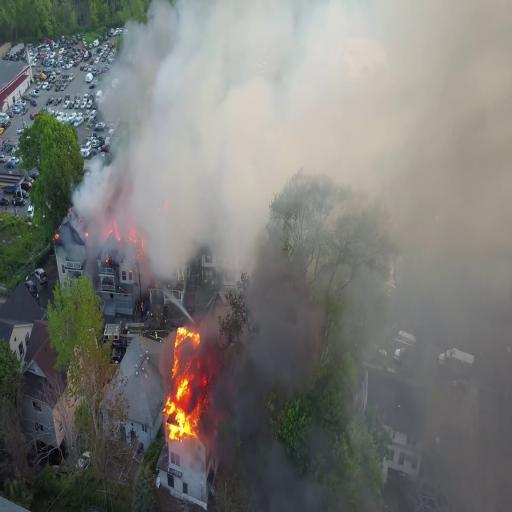fire: (168, 322, 198, 441)
smoke: (139, 0, 234, 265)
